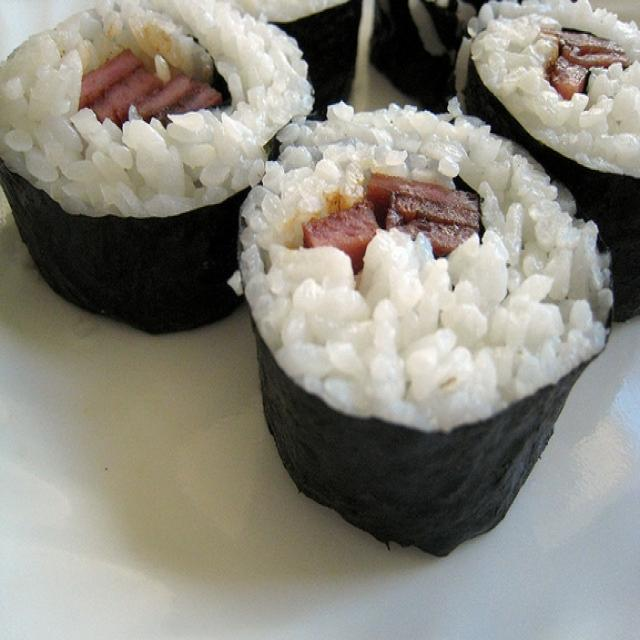寿司卷物: (5, 8, 636, 608)
